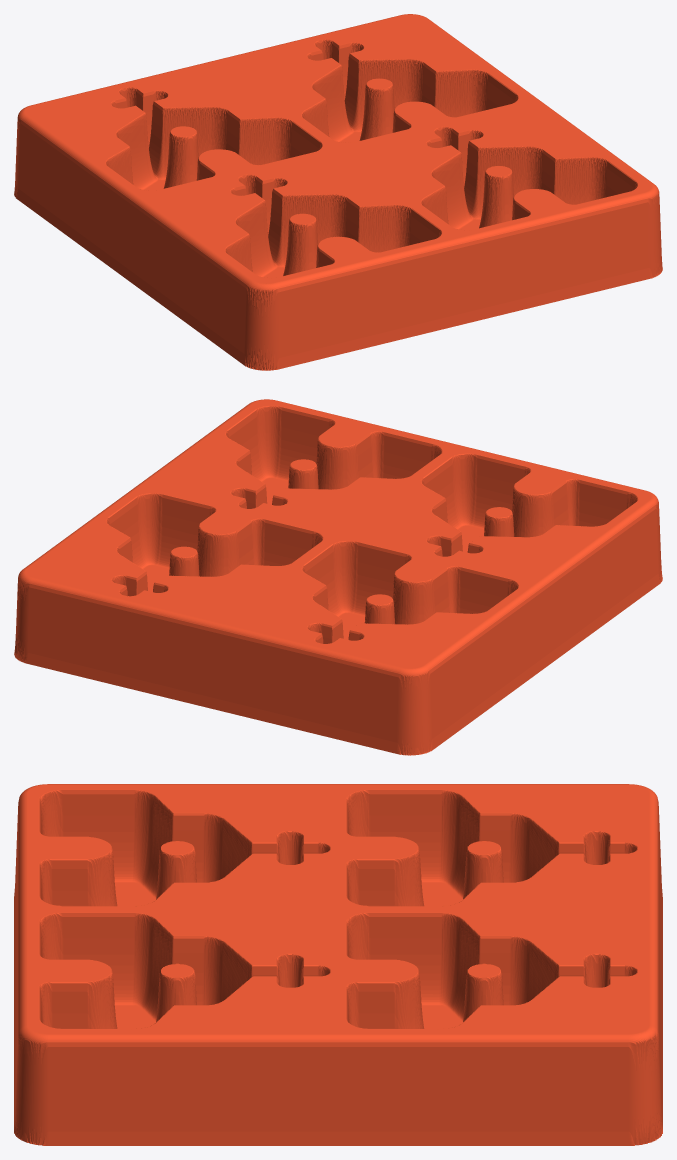
The model's file is mold.glb.
3 renders of one model, top to bottom at view 1: azimuth 30°, elevation 25°; view 2: azimuth 150°, elevation 25°; view 3: azimuth 270°, elevation 25°, orthographic. The views are drawn at different scales.
Visible parts, largest first — view 1: geometry_0; view 2: geometry_0; view 3: geometry_0.
Part boxes in pixels (<box>): geometry_0: <box>14,14,662,370</box>; geometry_0: <box>14,399,662,755</box>; geometry_0: <box>14,784,662,1145</box>.
Size of the model in its own units: 0.1636 by 0.031 by 0.1721.
